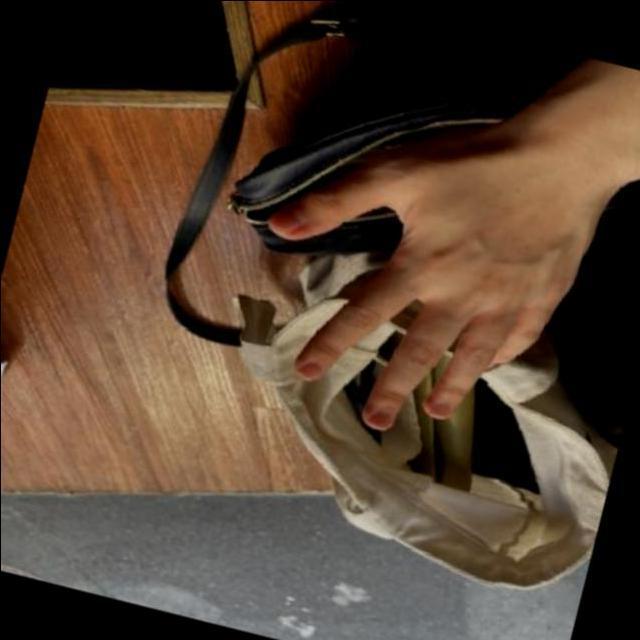hand: (198, 48, 640, 481)
